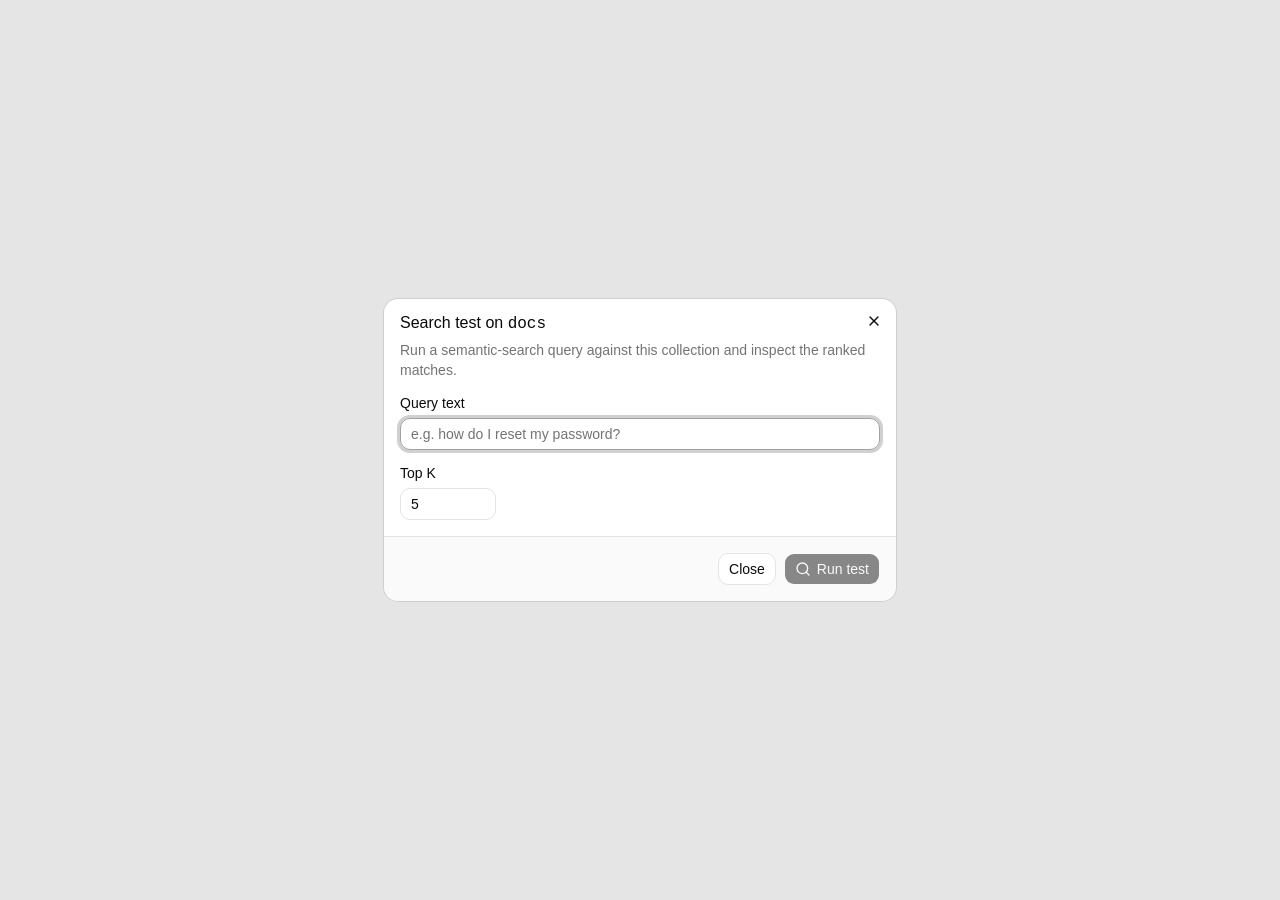
Test case: SearchTestModal › runs a search and renders ranked results with source fields
The image size is (1280, 900).
In the field labelled "Query text": (640, 434) x1=400 y1=418 x2=880 y2=450, type "hello"
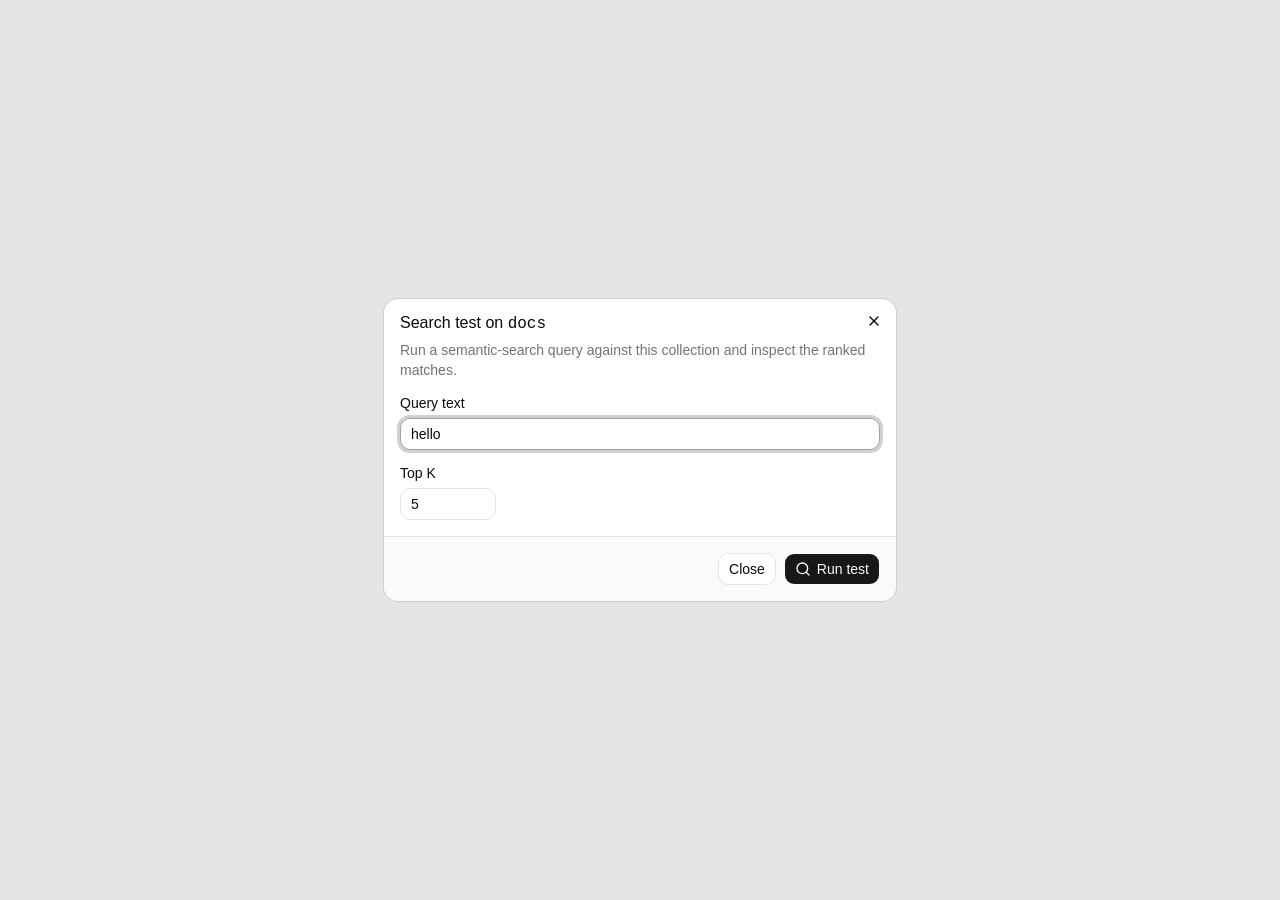
Click the button "Run test": (832, 569) x1=784 y1=553 x2=880 y2=585
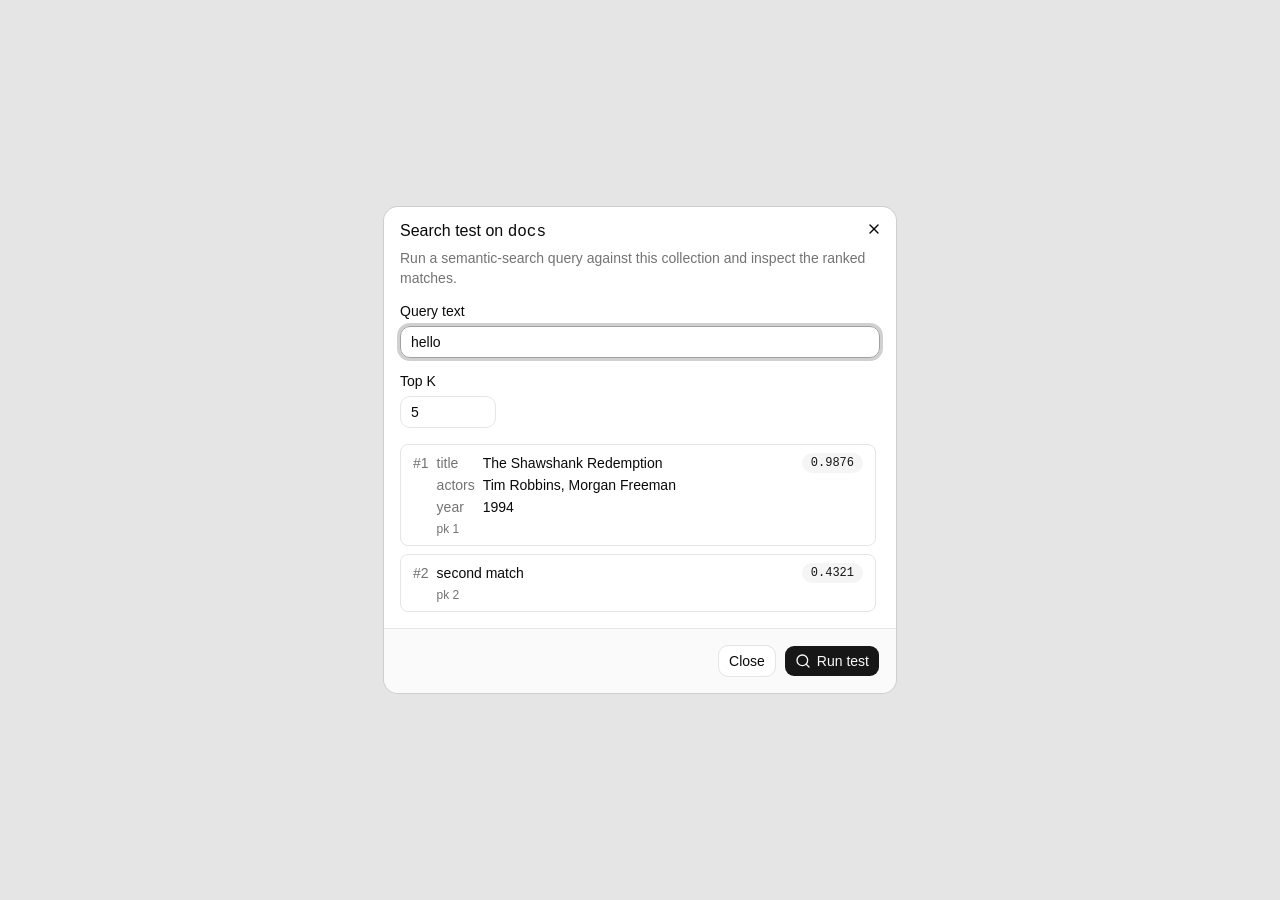
Now the text "The Shawshank Redemption" is shown, box x1=483 y1=453 x2=676 y2=473
Now the text "Tim Robbins, Morgan Freeman" is shown, box x1=483 y1=475 x2=676 y2=495
Now the text "actors" is shown, box x1=437 y1=475 x2=475 y2=495
